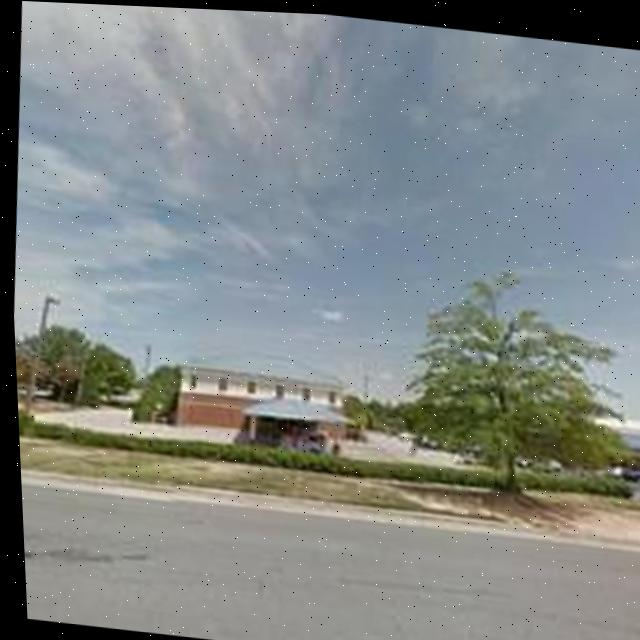building: (174, 338, 360, 459)
